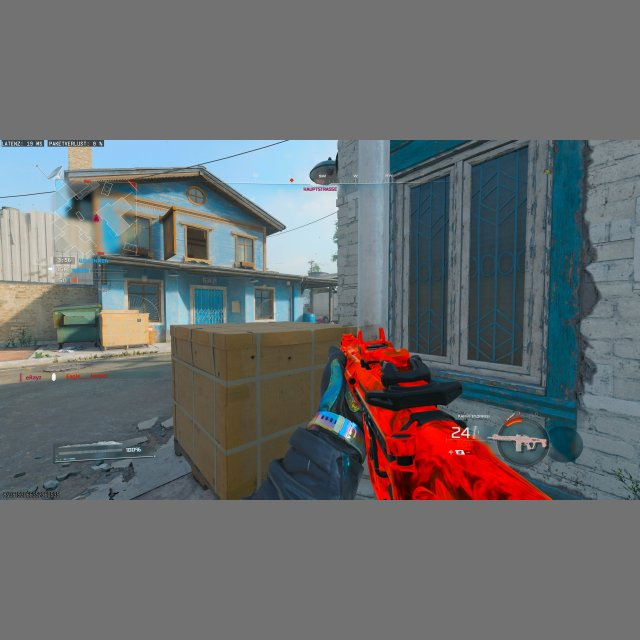player: (316, 315, 329, 323)
